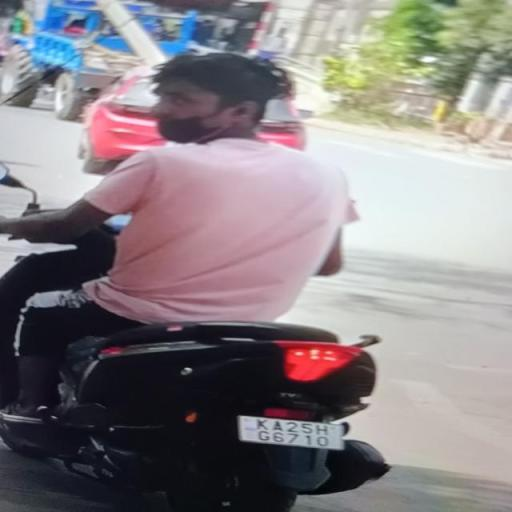bike: (2, 42, 406, 512)
numberplate: (233, 412, 350, 452)
withouthelmet: (158, 53, 270, 138)
